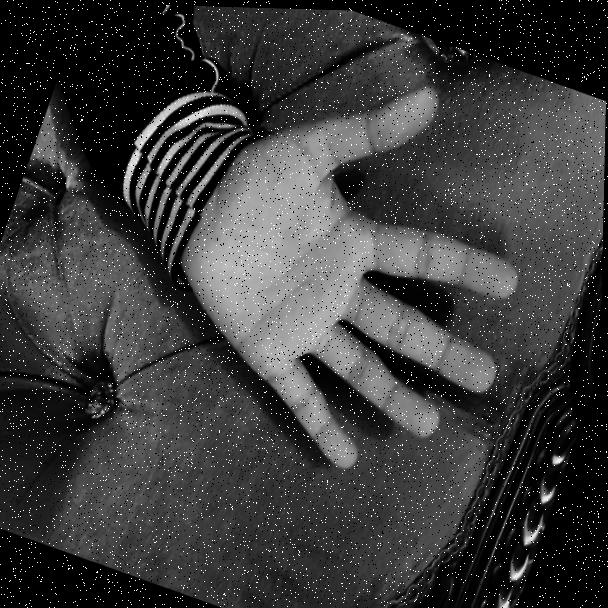five: (121, 16, 589, 520)
